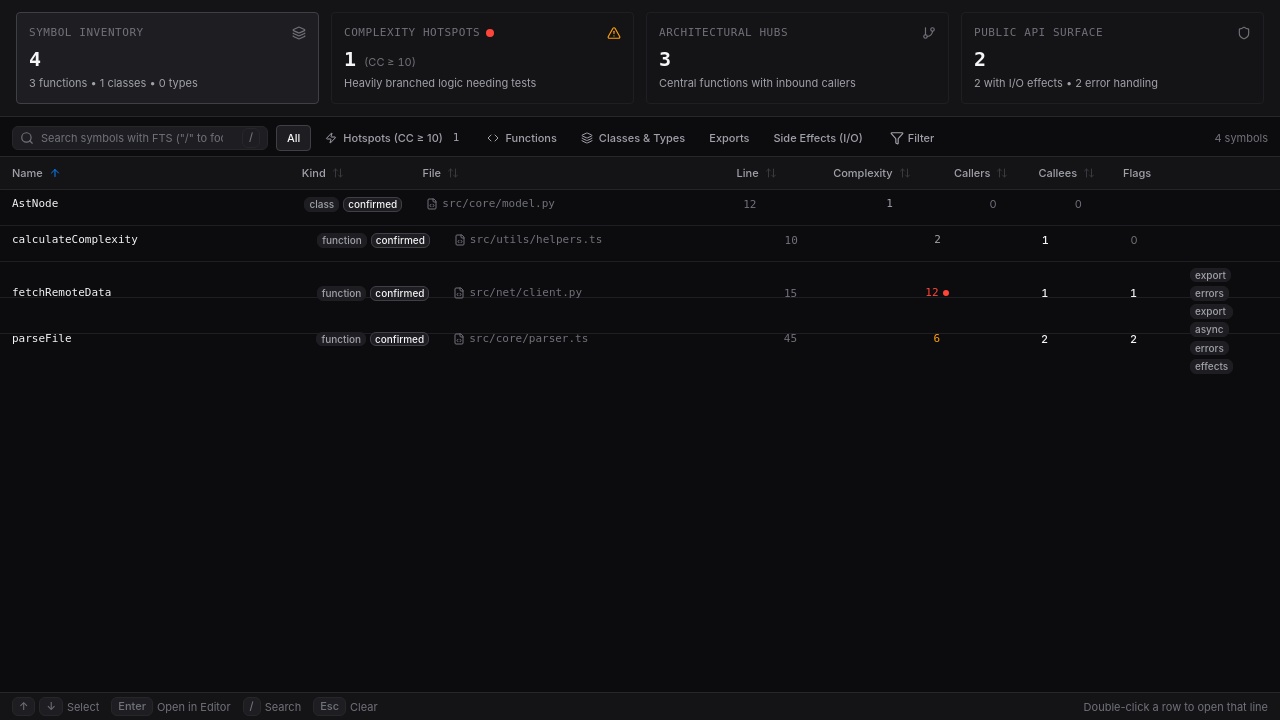
Test case: CodeIntelligenceView Component › renders empty state when no symbols match filters
Type "nonexistent_query_xyz" into the search field with test id "symbol-search-input" at (140,138), box [12,126,268,150]
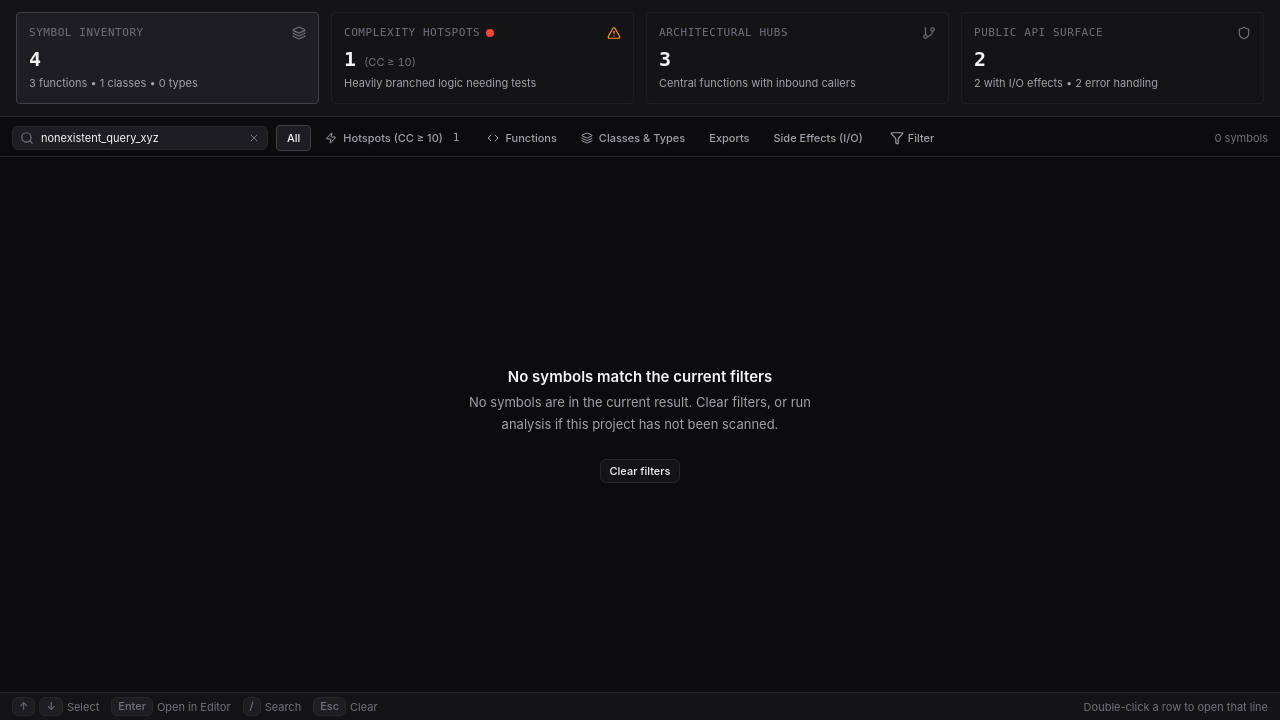
Expected: the element with test id "empty-state" is shown, [469,367,811,483]
Expected: the heading "No symbols match the current filters" is shown, [508,366,772,388]
